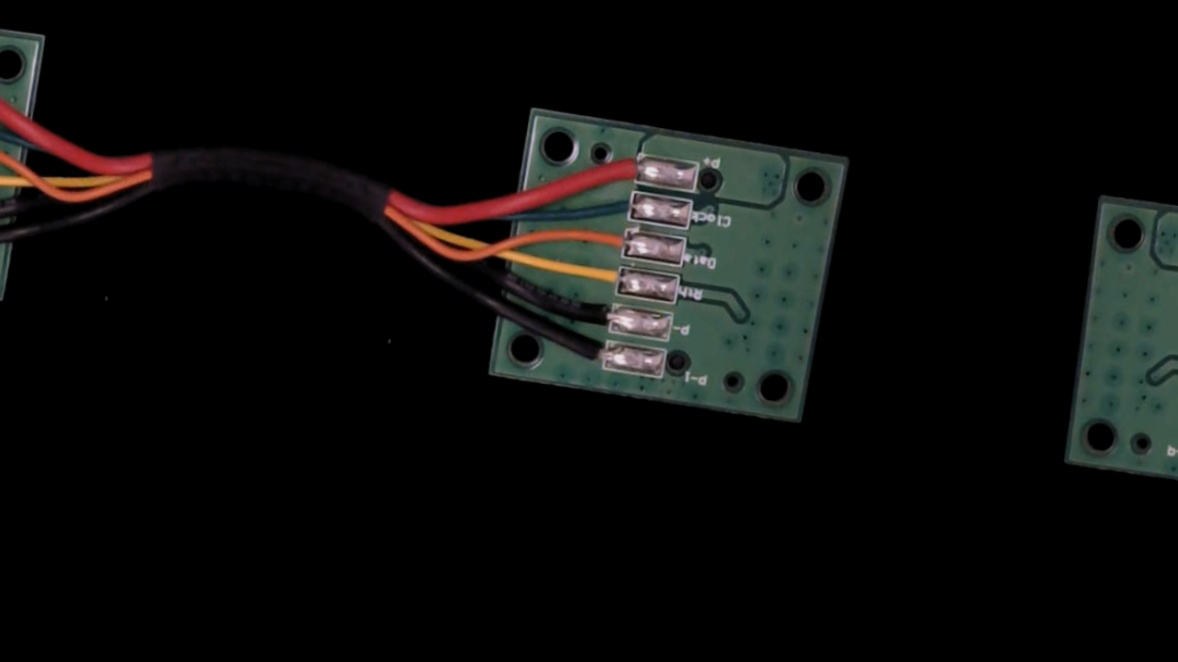Black: (560, 296, 635, 339)
Black1: (557, 335, 626, 377)
Green: (589, 186, 652, 226)
Orange: (571, 222, 645, 263)
Red: (585, 146, 657, 188)
Yellow: (563, 255, 640, 298)
